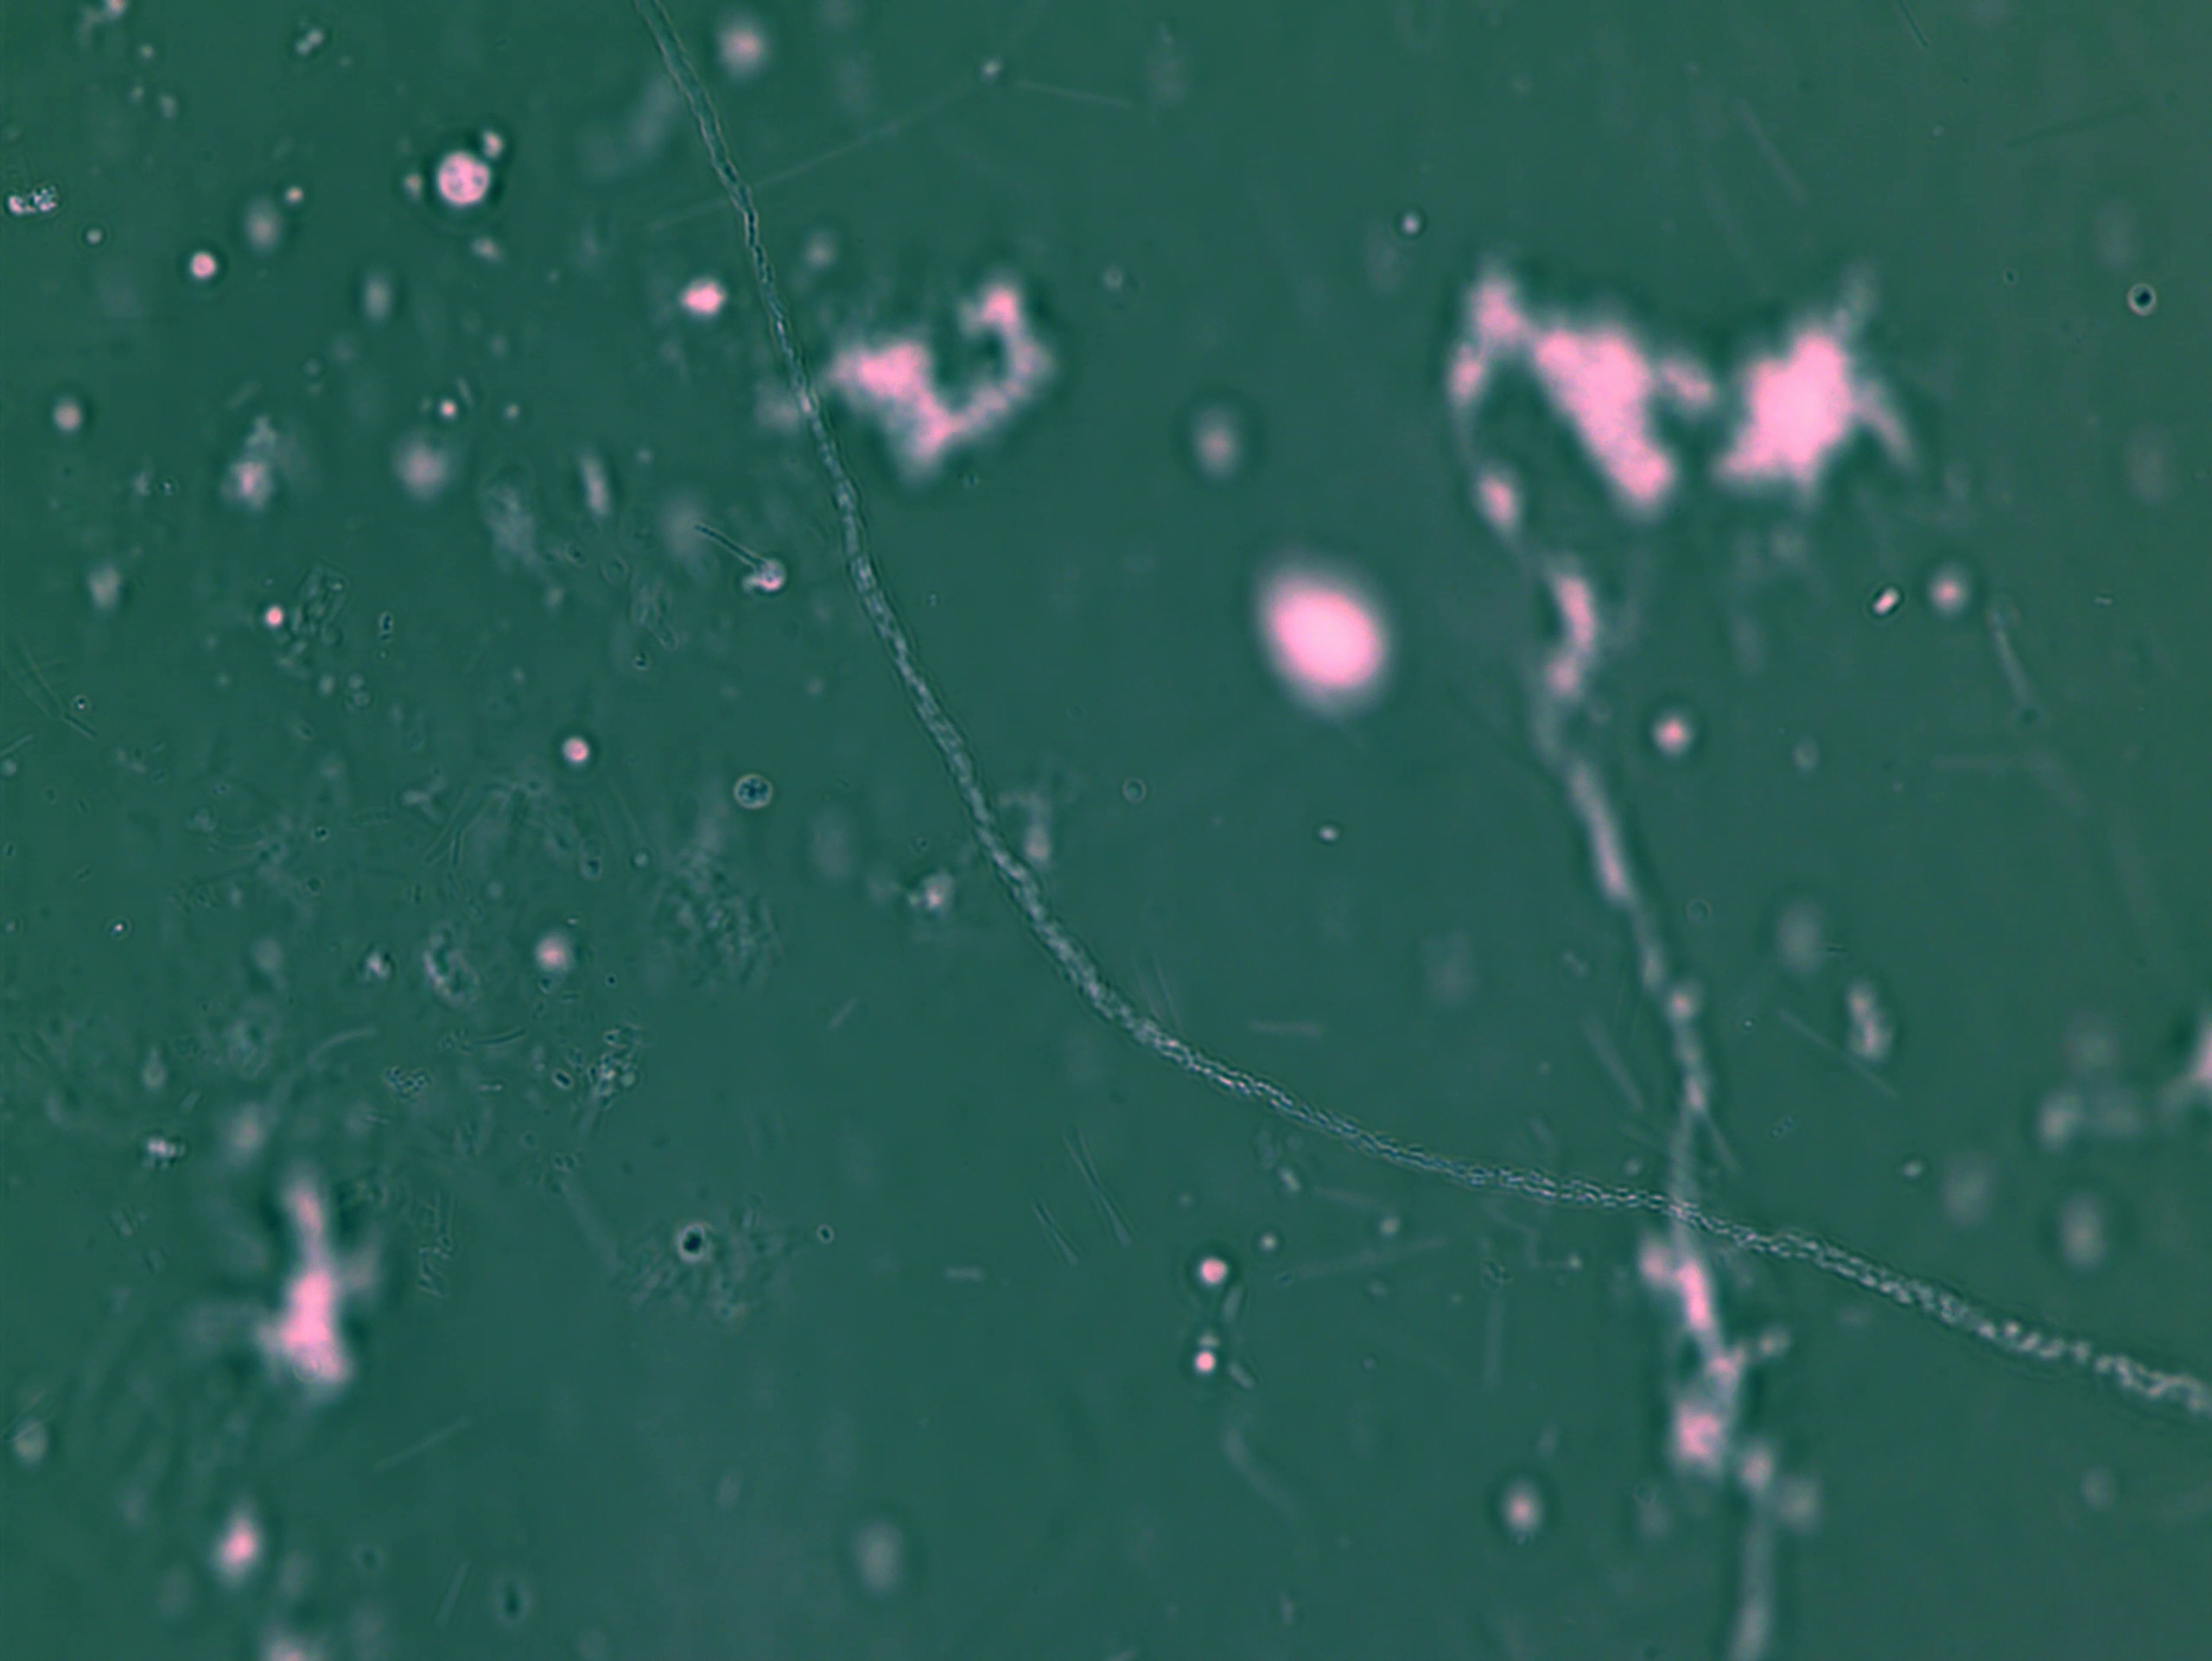depth:100: (1207, 544, 1434, 740)
